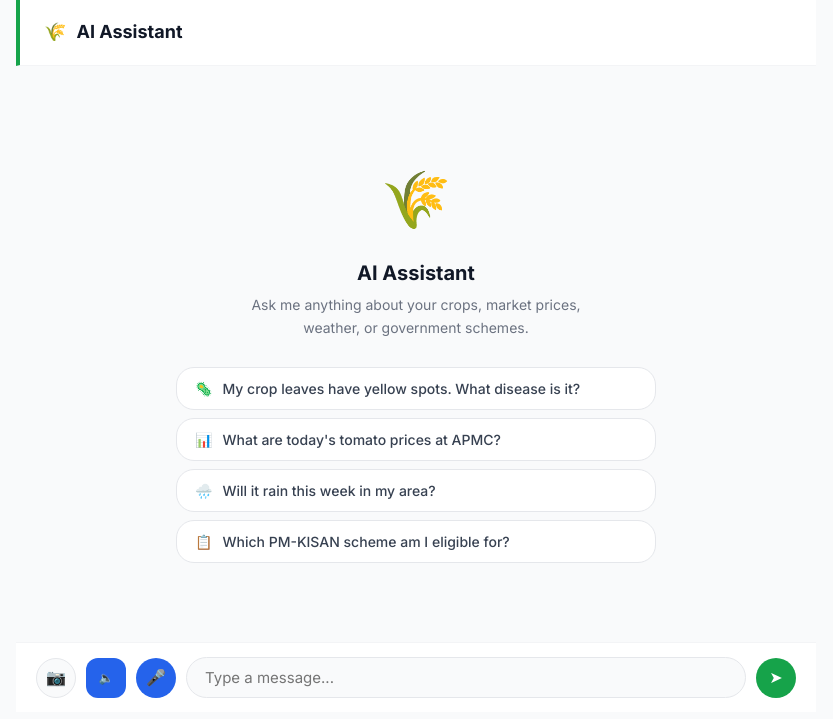
ChatPage › toggles image upload panel
The image size is (833, 719).
Click the button with test id "image-upload-toggle".
click(56, 678)  # box [36,658,76,698]
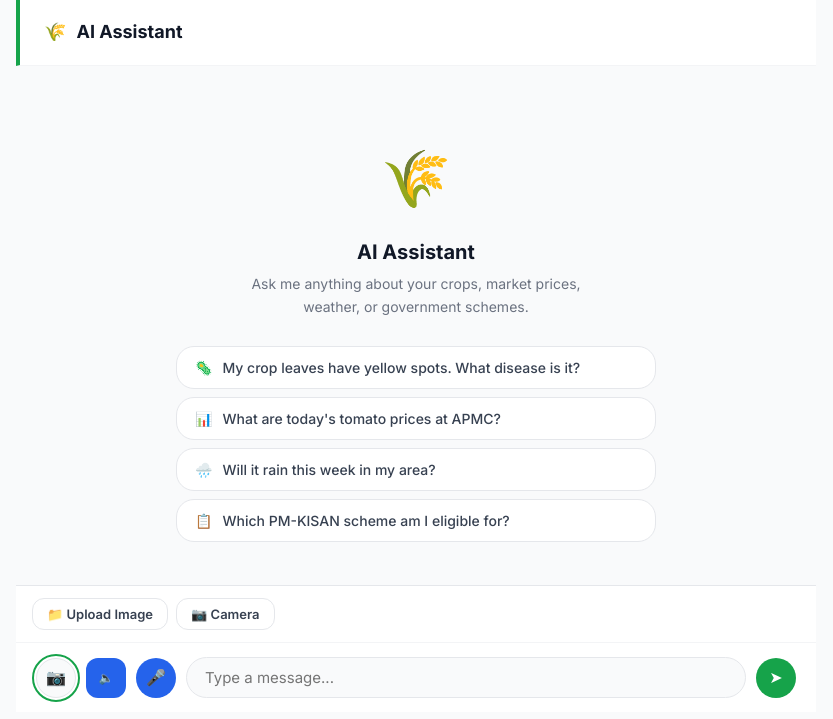
Expected: the element with test id "image-upload-panel" is shown, [16,585,816,642]
Click the button with test id "image-upload-toggle".
click(56, 678)  # box [36,658,76,698]
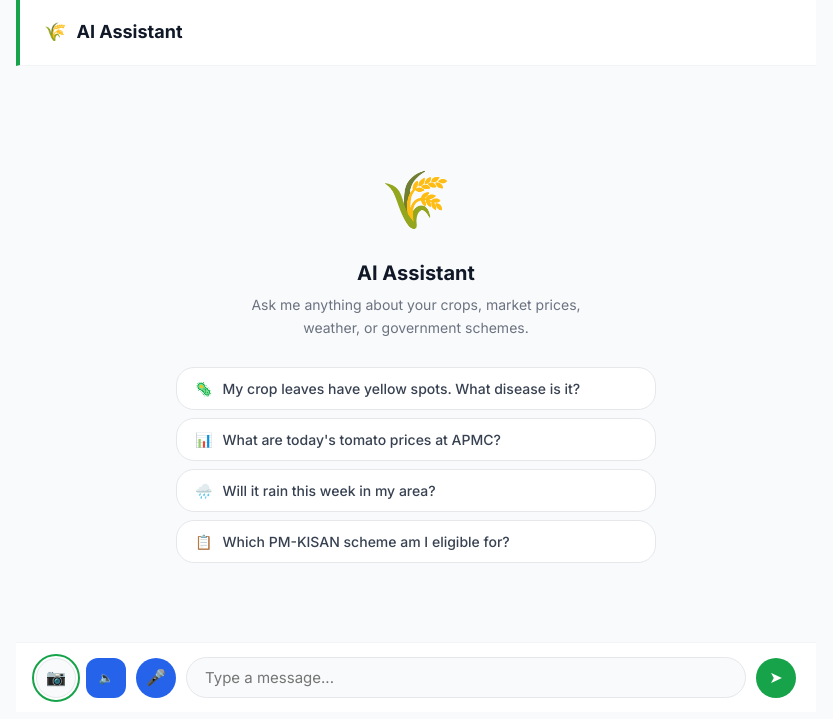
Expected: the element with test id "image-upload-panel" is gone
